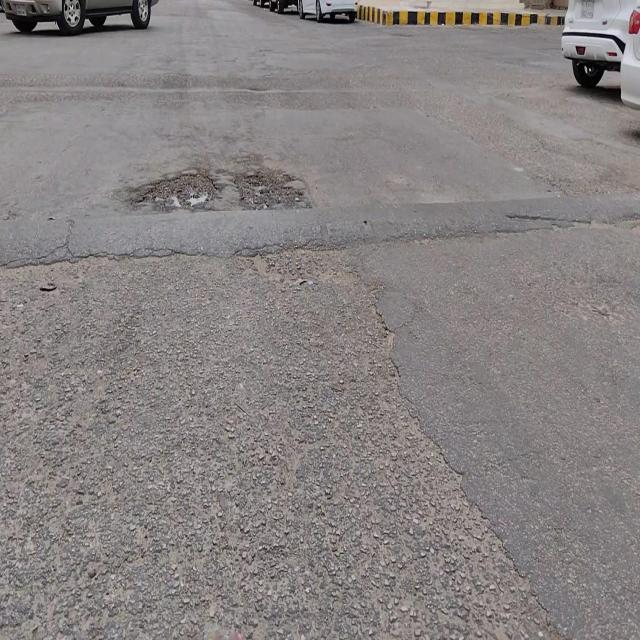Potholes: (139, 170, 216, 218), (239, 173, 304, 211)
